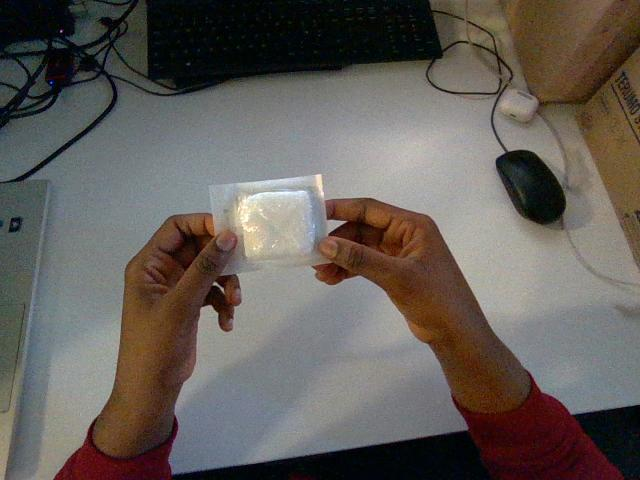gauze: (209, 175, 326, 274)
